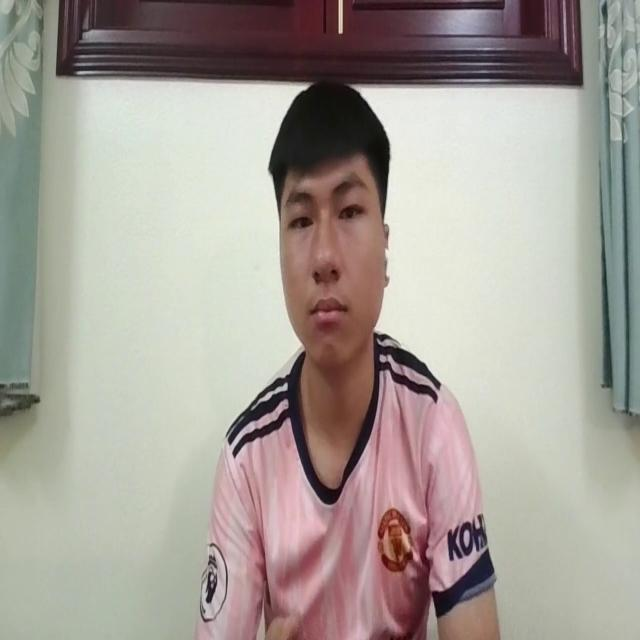student: (201, 70, 497, 640)
